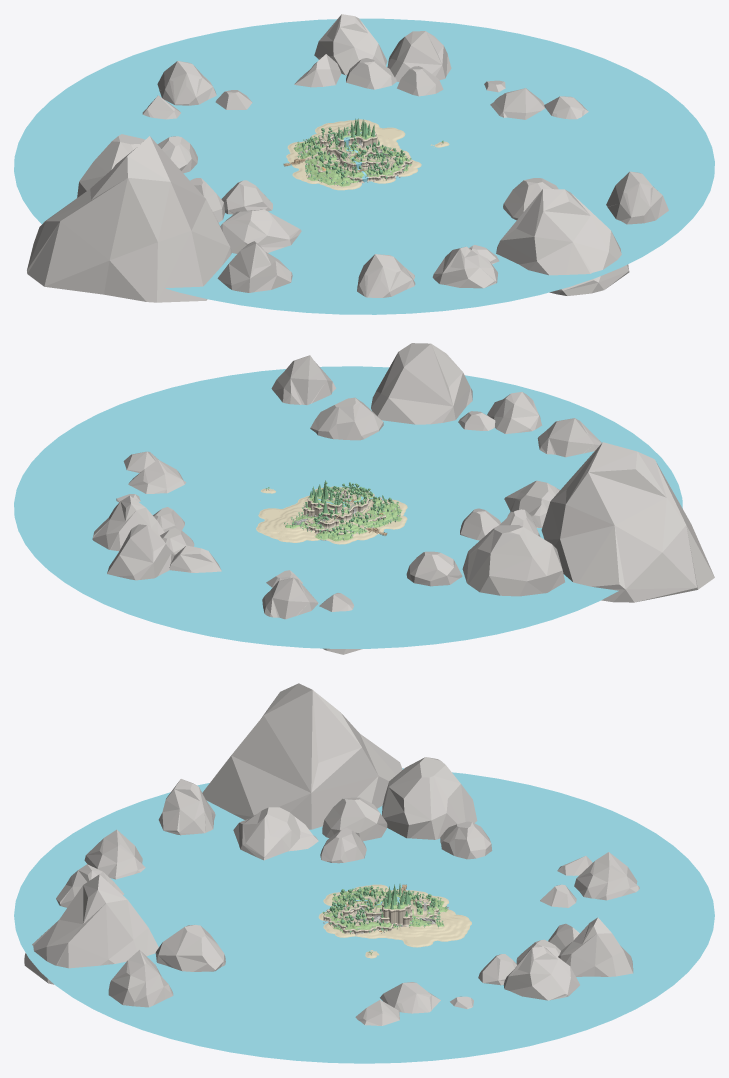
File: Large_Island_v2.glb
3 renders of one model, top to bottom at view 1: azimuth 30°, elevation 25°; view 2: azimuth 150°, elevation 25°; view 3: azimuth 270°, elevation 25°, orthographic. The views are drawn at different scales.
Parts seen in each view (by area): view 1: Water_Circle_3_Highpoly_0_0_2, Mountain_4_0_0_3, Mountain_4_0_0_5, Mountain_4_0_0_7, Mountain_1_0_0_1, Mountain_4_0_0_1, Mountain_3_0_0_1, Mountain_4_0_0_2, Mountain_4_0_0_6, Mountain_3_0_0_5, Mountain_3_0_0_2, Mountain_2_0_0_4 (+11 smaller); view 2: Water_Circle_3_Highpoly_0_0_2, Mountain_4_0_0_3, Mountain_4_0_0_5, Mountain_2_0_0_4, Mountain_4_0_0_1, Mountain_2_0_0_10, Mountain_3_0_0_1, Mountain_4_0_0_2, Mountain_3_0_0_5, Mountain_4_0_0_6, Mountain_3_0_0_2, Mountain_2_0_0_9 (+8 smaller); view 3: Water_Circle_3_Highpoly_0_0_2, Mountain_4_0_0_3, Mountain_4_0_0_5, Mountain_2_0_0_4, Mountain_1_0_0_1, Mountain_4_0_0_1, Mountain_4_0_0_2, Mountain_2_0_0_10, Mountain_3_0_0_1, Mountain_4_0_0_7, Mountain_3_0_0_2, Mountain_2_0_0_2 (+7 smaller).
Boxes of the visible parts, left/top/right/bottom form: Water_Circle_3_Highpoly_0_0_2: left=14, top=18, right=714, bottom=314; Mountain_4_0_0_3: left=27, top=136, right=231, bottom=302; Mountain_4_0_0_5: left=496, top=189, right=629, bottom=295; Mountain_4_0_0_7: left=217, top=241, right=292, bottom=292; Mountain_1_0_0_1: left=220, top=209, right=301, bottom=253; Mountain_4_0_0_1: left=314, top=14, right=387, bottom=75; Mountain_3_0_0_1: left=606, top=171, right=668, bottom=224; Mountain_4_0_0_2: left=387, top=31, right=451, bottom=81; Mountain_4_0_0_6: left=432, top=246, right=497, bottom=288; Mountain_3_0_0_5: left=357, top=254, right=415, bottom=297; Mountain_3_0_0_2: left=157, top=61, right=216, bottom=105; Mountain_2_0_0_4: left=77, top=134, right=144, bottom=197; Water_Circle_3_Highpoly_0_0_2: left=14, top=366, right=682, bottom=648; Mountain_4_0_0_3: left=541, top=442, right=714, bottom=602; Mountain_4_0_0_5: left=371, top=343, right=472, bottom=424; Mountain_2_0_0_4: left=462, top=525, right=564, bottom=596; Mountain_4_0_0_1: left=107, top=524, right=175, bottom=580; Mountain_2_0_0_10: left=310, top=397, right=383, bottom=440; Mountain_3_0_0_1: left=271, top=355, right=336, bottom=405; Mountain_4_0_0_2: left=92, top=495, right=164, bottom=551; Mountain_3_0_0_5: left=537, top=418, right=601, bottom=457; Mountain_4_0_0_6: left=487, top=392, right=542, bottom=433; Mountain_3_0_0_2: left=262, top=577, right=318, bottom=619; Mountain_2_0_0_9: left=406, top=551, right=462, bottom=586; Water_Circle_3_Highpoly_0_0_2: left=14, top=768, right=714, bottom=1063; Mountain_4_0_0_3: left=202, top=683, right=402, bottom=829; Mountain_4_0_0_5: left=24, top=874, right=158, bottom=984; Mountain_2_0_0_4: left=382, top=757, right=477, bottom=839; Mountain_1_0_0_1: left=233, top=807, right=318, bottom=860; Mountain_4_0_0_1: left=558, top=917, right=633, bottom=976; Mountain_4_0_0_2: left=503, top=947, right=579, bottom=1000; Mountain_2_0_0_10: left=155, top=925, right=225, bottom=971; Mountain_3_0_0_1: left=108, top=950, right=173, bottom=1007; Mountain_4_0_0_7: left=158, top=779, right=215, bottom=835; Mountain_3_0_0_2: left=574, top=852, right=639, bottom=900; Mountain_2_0_0_2: left=322, top=797, right=387, bottom=841.
Bounding box in the file's own units: 661 × 137 × 612.
